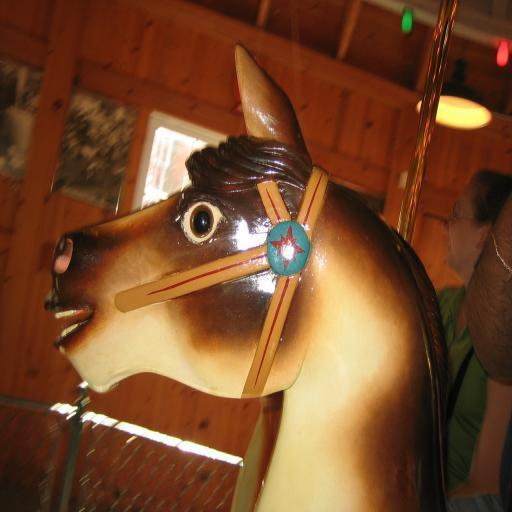horse: (45, 42, 453, 512)
